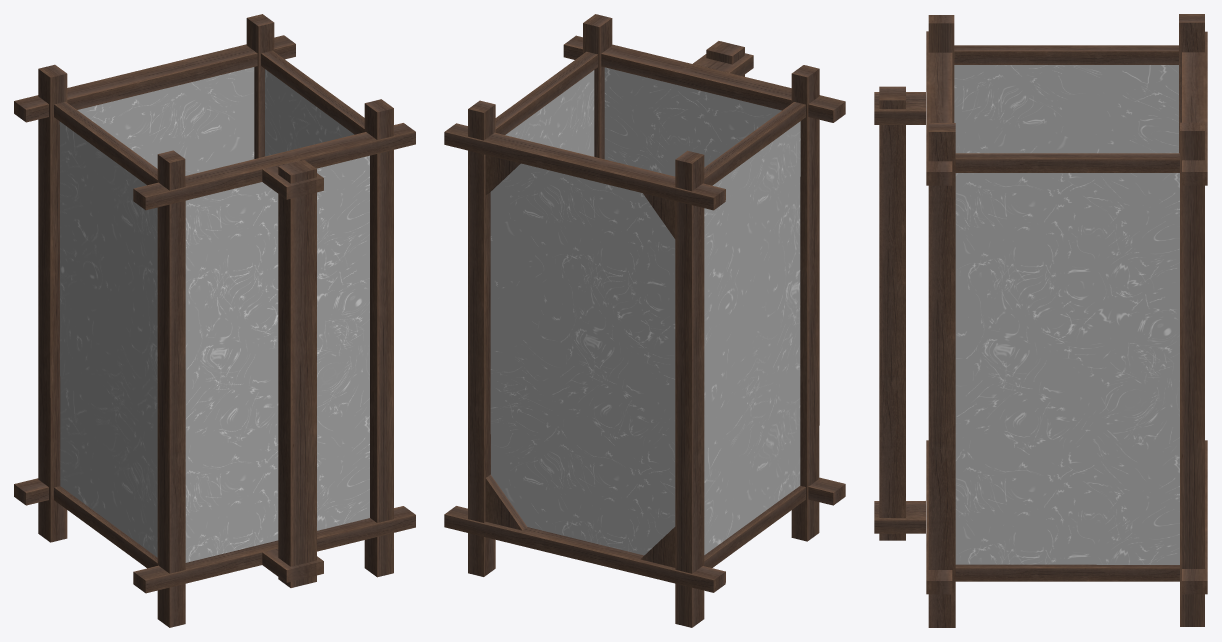
Rendered from jov_andon03.fbx.
3 renders of one model, left to right at view 1: azimuth 30°, elevation 25°; view 2: azimuth 150°, elevation 25°; view 3: azimuth 270°, elevation 25°, orthographic. The views are drawn at different scales.
Visible parts, largest first — view 1: jov_andon03; view 2: jov_andon03; view 3: jov_andon03.
Boxes of the visible parts, left/top/right/bottom form: jov_andon03: left=14, top=14, right=415, bottom=627; jov_andon03: left=444, top=14, right=845, bottom=627; jov_andon03: left=874, top=14, right=1207, bottom=627.
Bounding box in the file's own units: 36.43 × 59.9 × 36.5.
